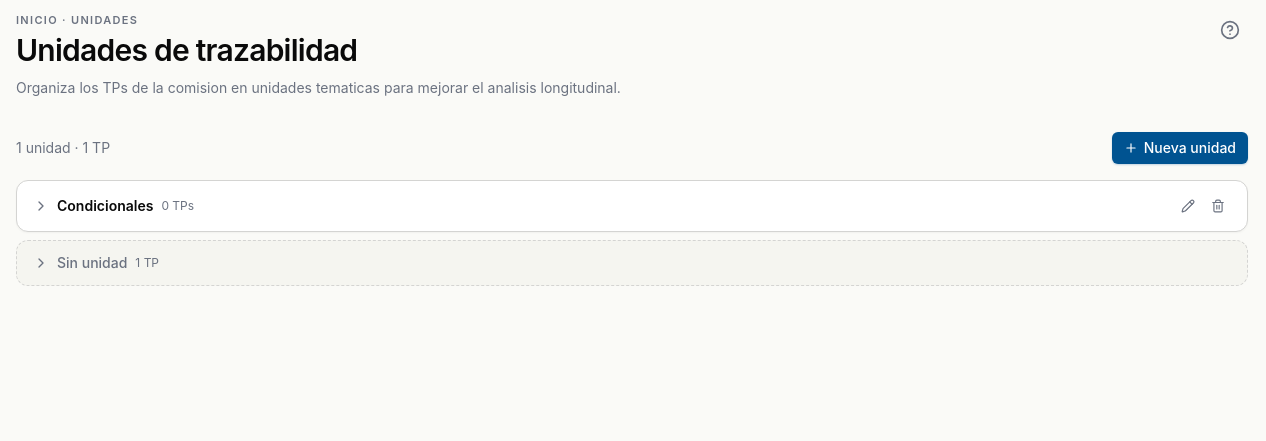
UnidadesView — errores de escritura inline › asignar TP que falla: banner distinto (asignar), sin alert()
The image size is (1266, 441).
Step 1. Click the button "Sin unidad 1 TP" → x=92, y=262, box [17,241,1247,285]
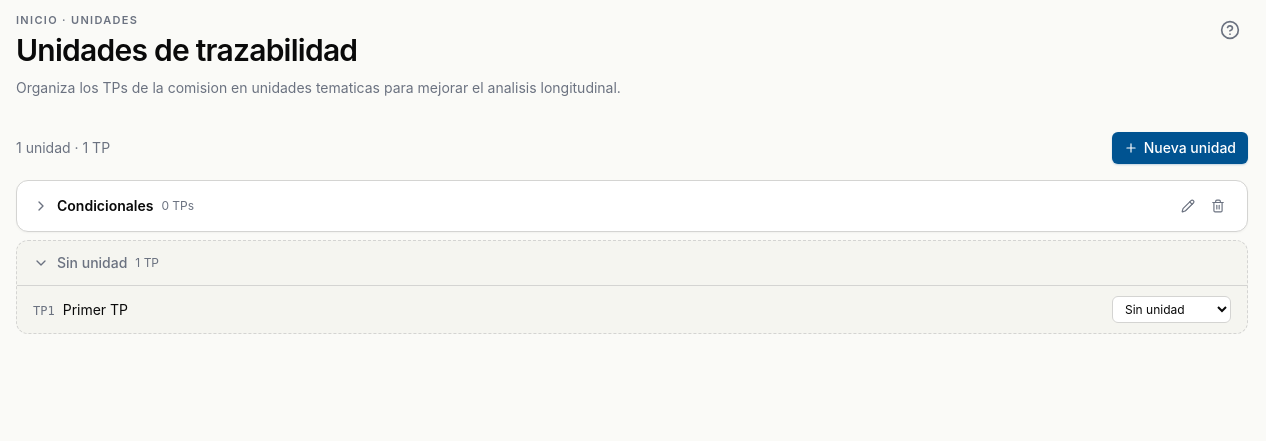
Step 2. Select "Condicionales" in the dropdown → x=1172, y=309, box [1112,296,1231,323]
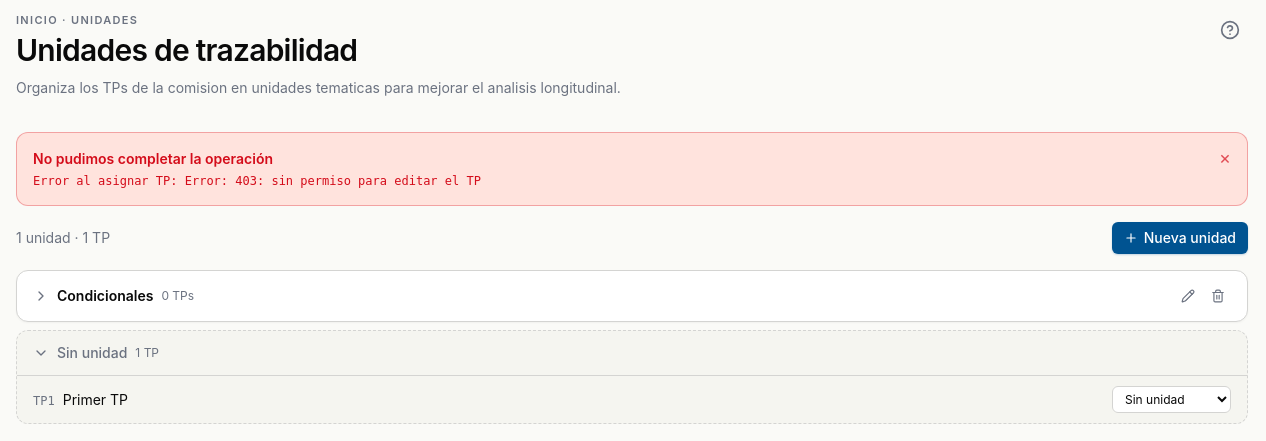
Check: the message with test id "unidades-action-error" shows "asignar TP", box [33,174,481,188]
Check: the message with test id "unidades-action-error" shows "sin permiso", box [33,174,481,188]
